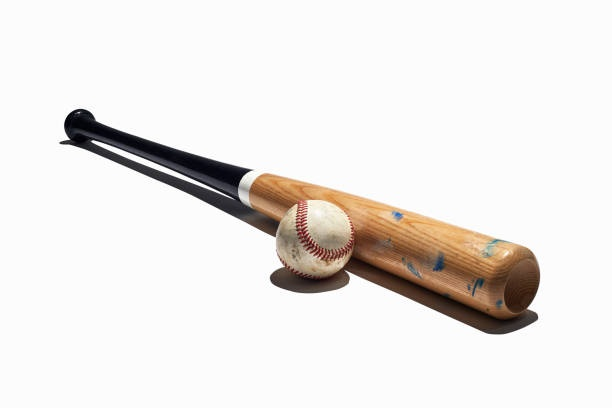bita: (65, 109, 534, 305)
